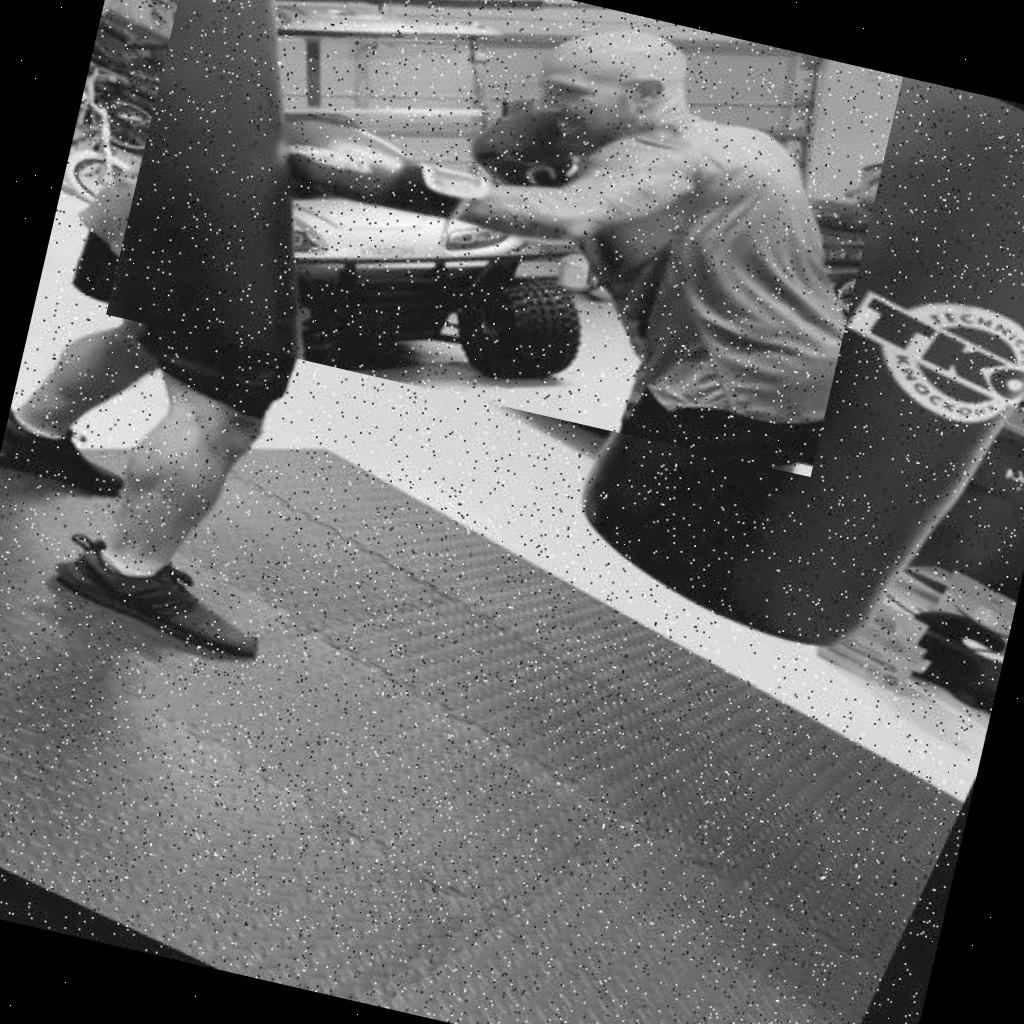bag: (595, 36, 1024, 701)
jab: (106, 0, 903, 477)
